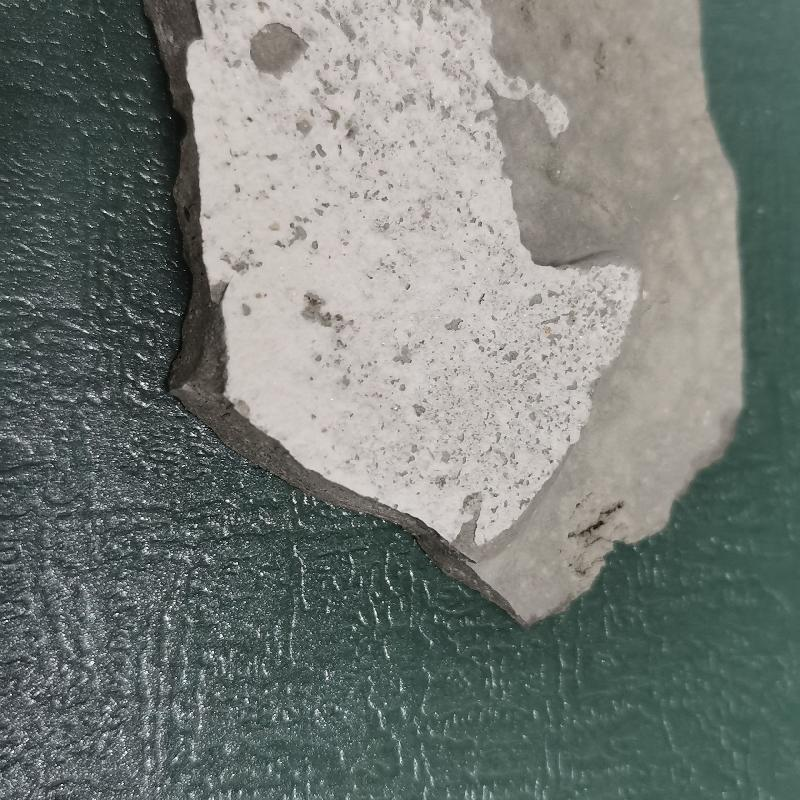tile: (124, 27, 793, 622)
